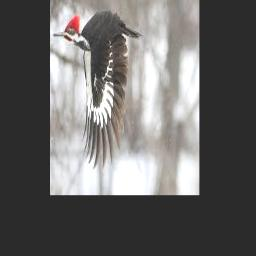Woodpecker: (52, 12, 142, 167)
